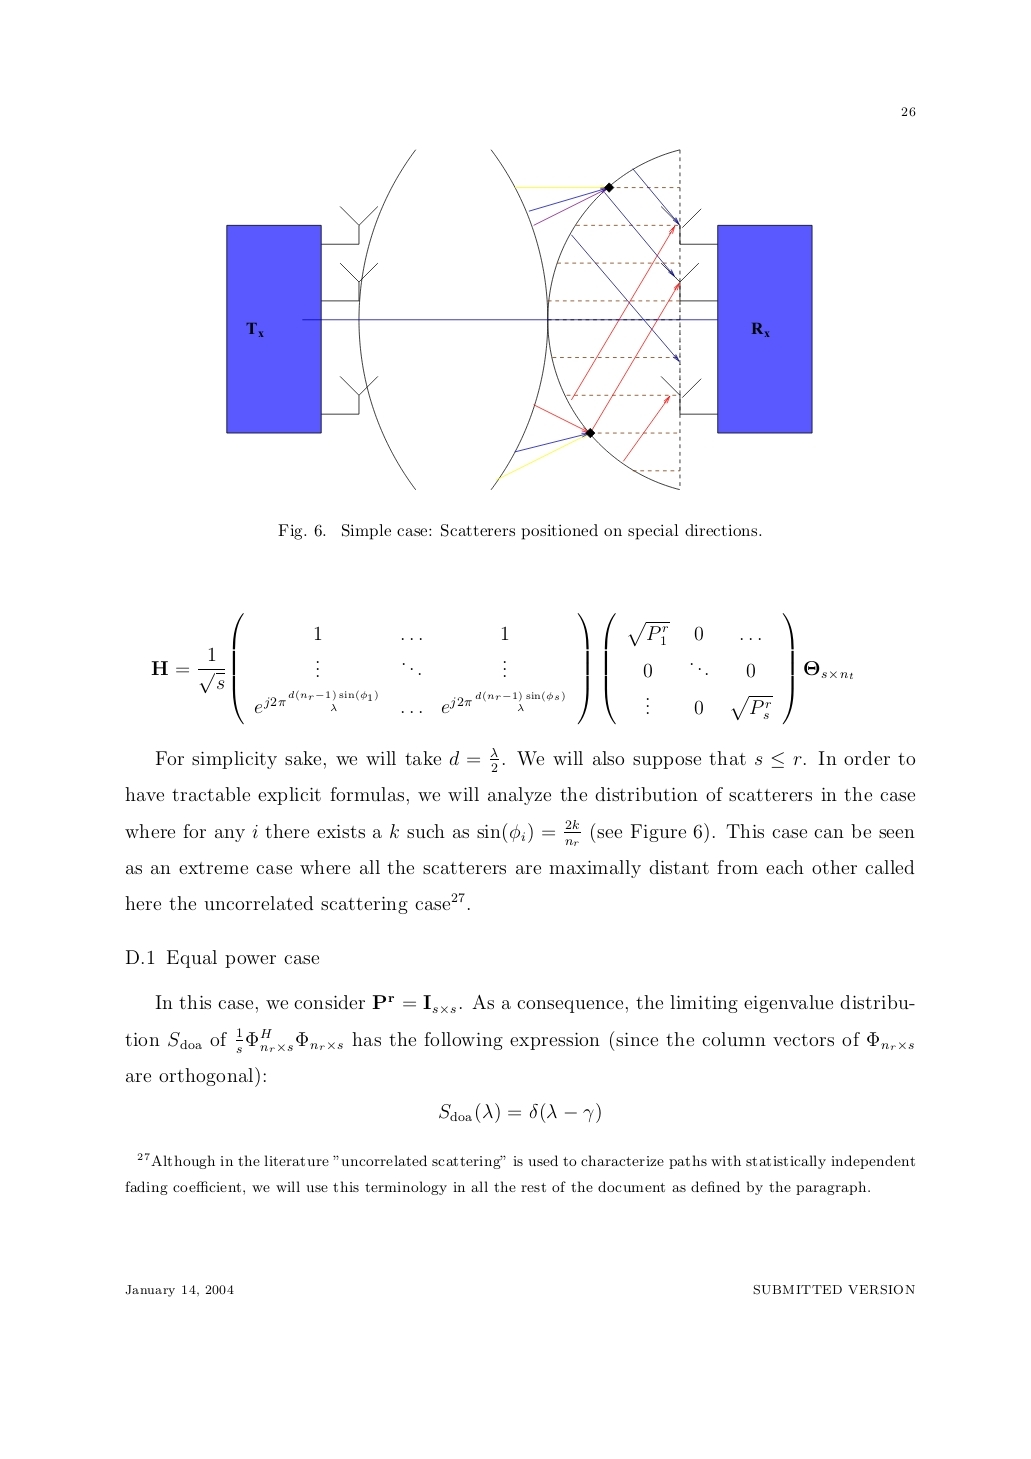figure: (227, 148, 812, 490)
formula: (151, 612, 852, 725), (439, 1102, 600, 1123)
